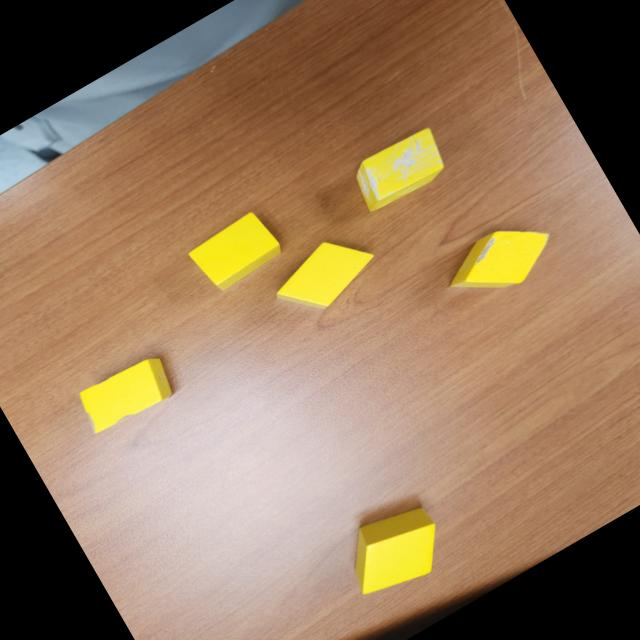broken: (434, 205, 566, 316), (346, 123, 455, 217), (72, 348, 182, 440)
yellow: (329, 492, 456, 609), (263, 223, 387, 329), (183, 205, 288, 299)
